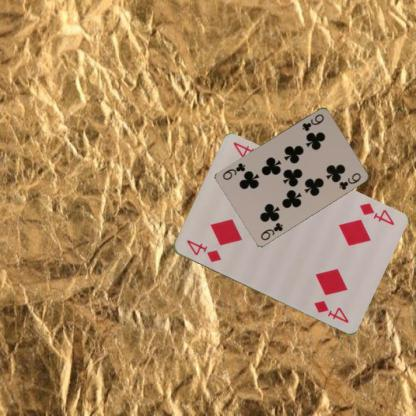4d: (184, 237, 222, 264), (357, 200, 395, 226)
9c: (258, 219, 284, 242), (300, 111, 325, 132)
